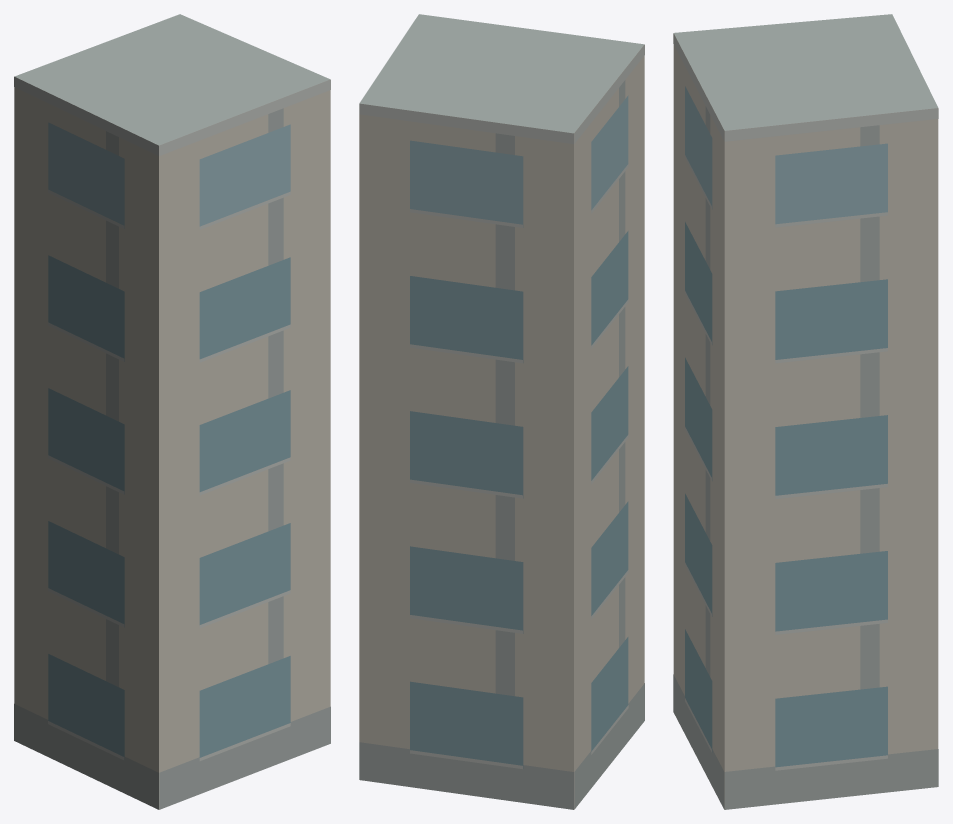
The model's file is survey-upis-32643690.glb.
3 renders of one model, left to right at view 1: azimuth 30°, elevation 25°; view 2: azimuth 150°, elevation 25°; view 3: azimuth 270°, elevation 25°, orthographic. The views are drawn at different scales.
Parts seen in each view (by area): view 1: survey-upis-32643690.tmp; view 2: survey-upis-32643690.tmp; view 3: survey-upis-32643690.tmp.
Boxes of the visible parts, left/top/right/bottom form: survey-upis-32643690.tmp: left=14, top=14, right=330, bottom=809; survey-upis-32643690.tmp: left=359, top=14, right=644, bottom=809; survey-upis-32643690.tmp: left=673, top=14, right=938, bottom=809.
Size of the model in its own units: 5.64 by 15.25 by 5.41.
